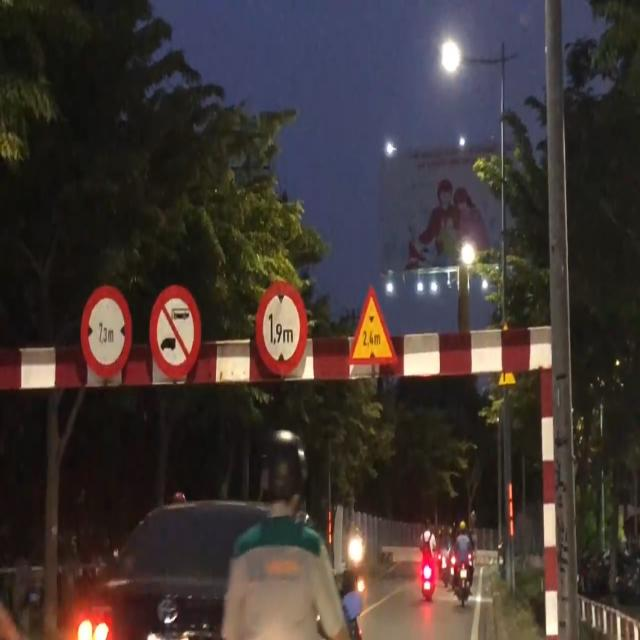Bien bao cam xe oto khach va xe oto tai: (150, 281, 206, 382)
Bien bao chieu cao tinh khong thuc te: (344, 276, 404, 376)
Bien bao han che chieu cao: (252, 275, 312, 387)
